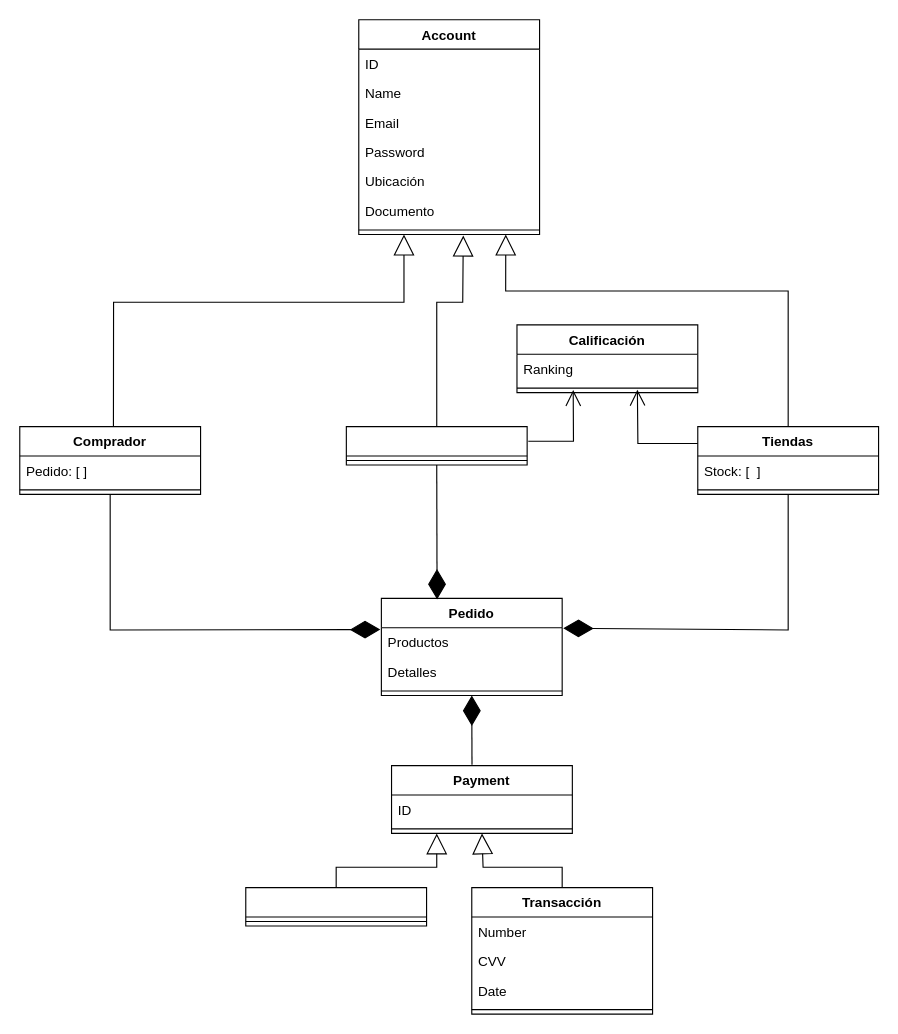
This 898x1034 diagram has some shape labels left out. Each missing label, with the centre of its shape:
Cahs: [336,906]
RapiTendero: [436,445]
